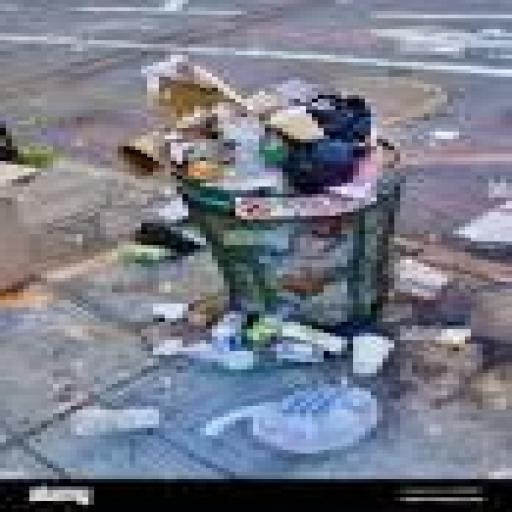poubelle_pleine: (98, 51, 466, 363)
